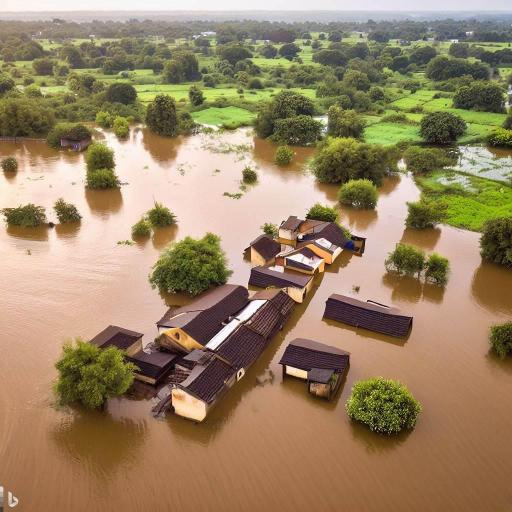flood: (0, 128, 512, 512)
house: (157, 281, 249, 349), (170, 354, 238, 423), (326, 293, 408, 348), (282, 337, 350, 400), (249, 265, 314, 303), (280, 215, 350, 250), (84, 323, 146, 357), (239, 296, 283, 336), (244, 235, 282, 268)
